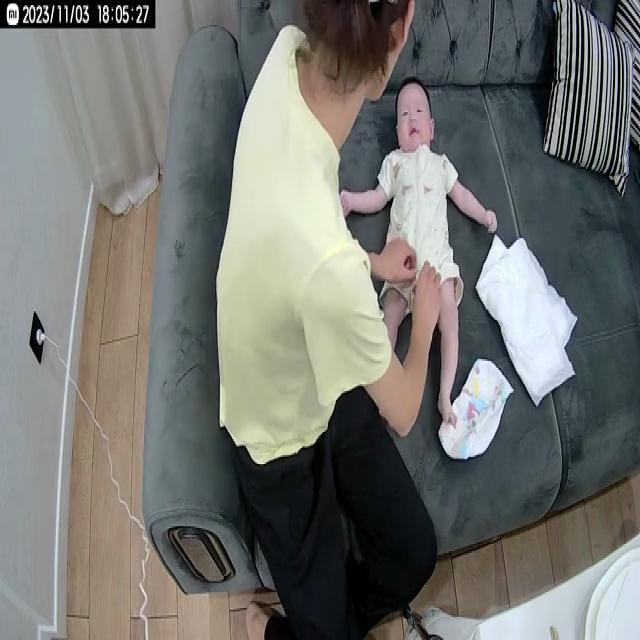baby: (338, 77, 498, 427)
